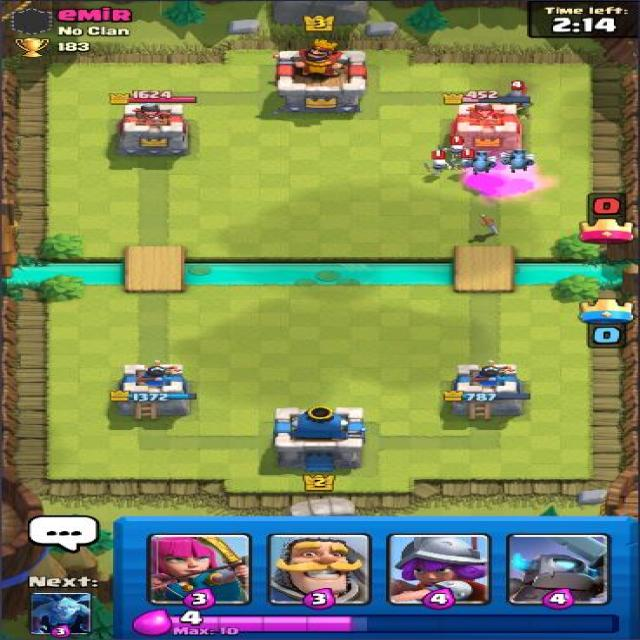Enemy-Musketeer: (499, 80, 538, 120)
Enemy-Skeleton: (421, 148, 456, 178), (444, 135, 472, 162), (456, 147, 482, 175)
Player-Minion: (458, 148, 499, 177), (496, 147, 537, 174)
